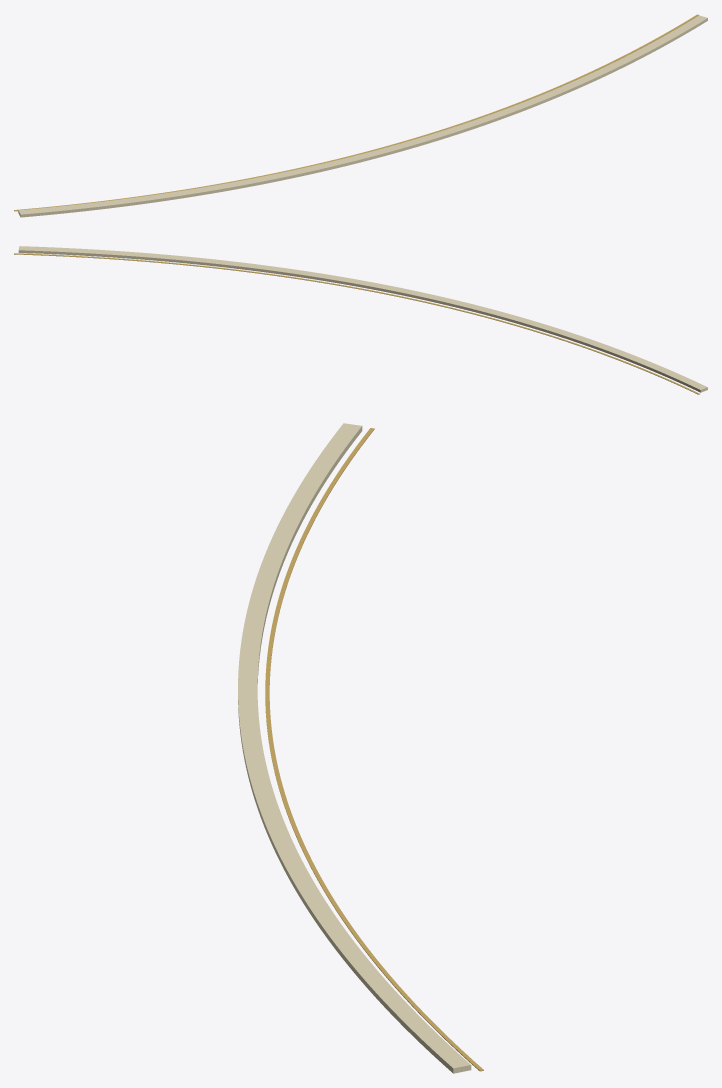
The model's file is SM_PlatformCoping.fbx.
The picture shows the model from 3 angles, top to bottom: view 1: azimuth 30°, elevation 25°; view 2: azimuth 150°, elevation 25°; view 3: azimuth 270°, elevation 25°; orthographic projection. The views are drawn at different scales.
Parts seen in each view (by area): view 1: SM_PlatformCoping; view 2: SM_PlatformCoping; view 3: SM_PlatformCoping.
Boxes of the visible parts, box(x1,y1,x2,y2) form: SM_PlatformCoping: box(14, 14, 707, 217); SM_PlatformCoping: box(14, 246, 707, 394); SM_PlatformCoping: box(238, 423, 483, 1073).
Bounding box in the file's own units: 3416 × 551 × 13.
